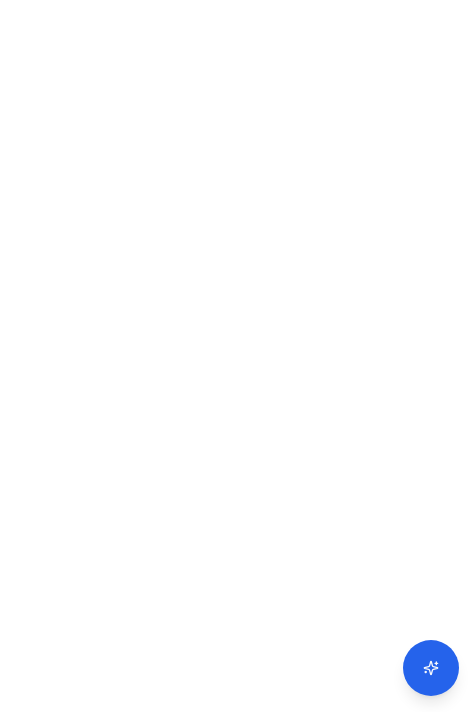
AIAssistant › disables send button when input is empty and enables it when text is entered
Click the button named "Открыть AI-ассистента". click: [431, 668]
box: [403,640,459,696]
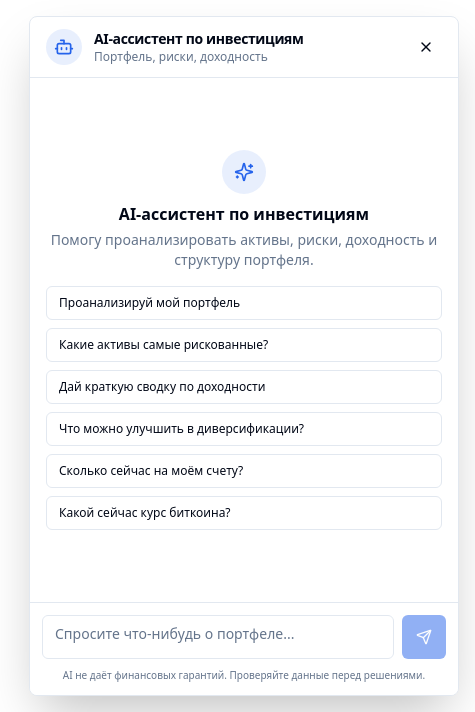
Expected: the button named "Отправить" is disabled, [402,615,446,659]
Type "Say hello" into the text box with placeholder "Спросите что-нибудь о портфеле...". click: [218, 637]
box: [42,615,394,659]
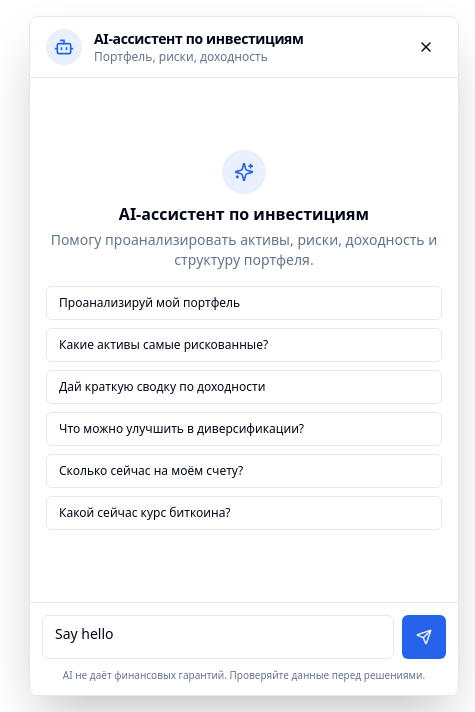
Expected: the button named "Отправить" is enabled, [402,615,446,659]
